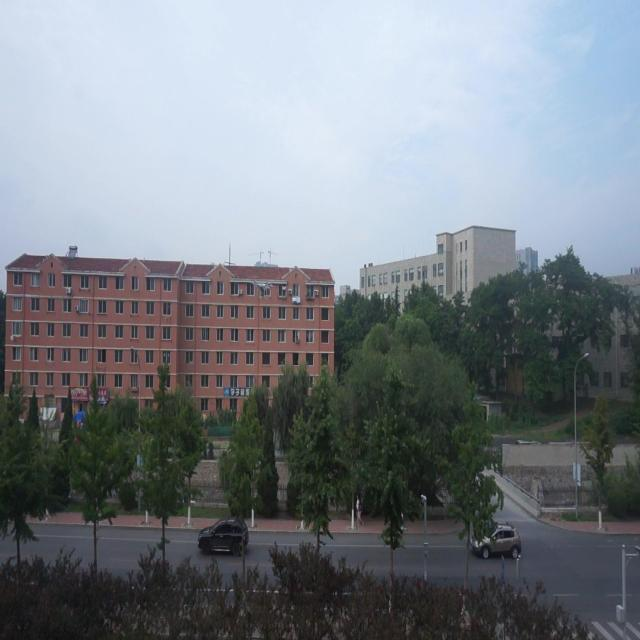drone: (251, 276, 275, 302)
